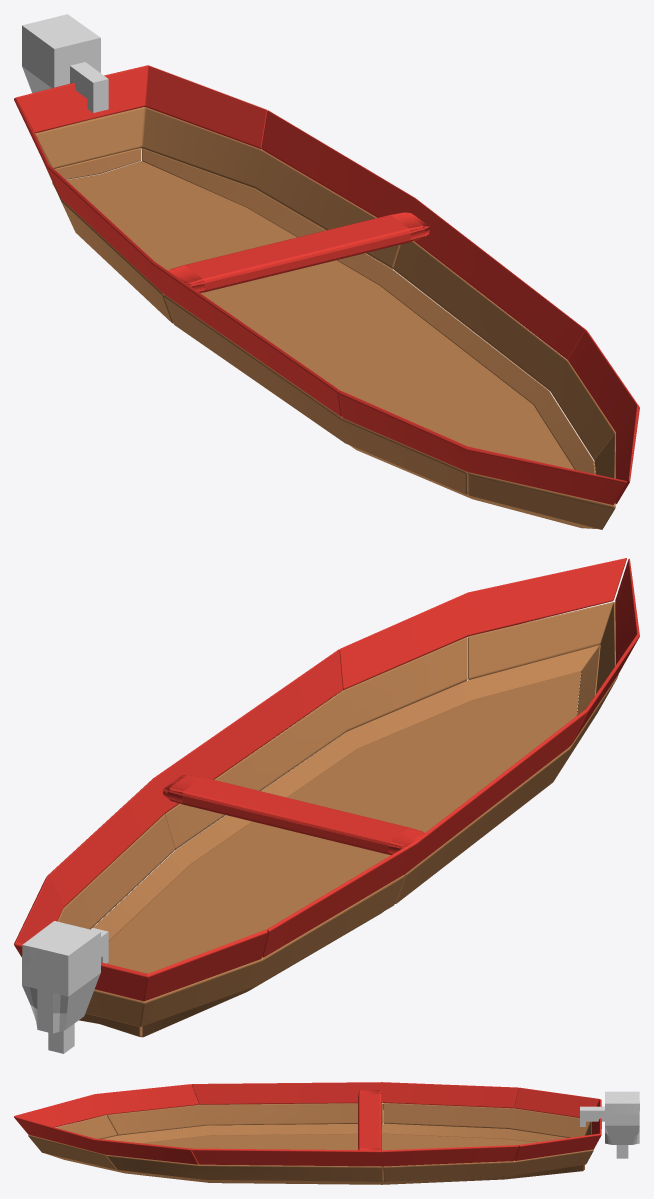
Rendered from boat2.gltf.
3 views of the same model, one above another, from view 1: azimuth 30°, elevation 25°; view 2: azimuth 150°, elevation 25°; view 3: azimuth 270°, elevation 25° (orthographic). The views are drawn at different scales.
Visible parts, largest first — view 1: boat.001, boat, boat.003, boat.002, Plane.002, Cube, Plane.004; view 2: boat, boat.001, boat.003, boat.002, Plane.002, Cube, Plane.004; view 3: boat, boat.003, boat.002, boat.001, Cube, Plane.002, Plane.004.
Boxes of the visible parts, x1,y1,x2,y2 form: boat.001: [66, 161, 574, 490]; boat: [14, 65, 639, 504]; boat.003: [35, 107, 615, 529]; boat.002: [52, 148, 596, 528]; Plane.002: [168, 212, 429, 292]; Cube: [22, 14, 108, 112]; Plane.004: [169, 213, 428, 292]; boat: [14, 558, 639, 1001]; boat.001: [107, 671, 580, 1037]; boat.003: [57, 602, 618, 1026]; boat.002: [79, 645, 600, 1037]; Plane.002: [163, 774, 424, 854]; Cube: [22, 921, 108, 1053]; Plane.004: [164, 775, 422, 854]; boat: [14, 1082, 601, 1166]; boat.003: [28, 1103, 593, 1181]; boat.002: [47, 1123, 584, 1184]; boat.001: [143, 1133, 536, 1179]; Cube: [580, 1091, 639, 1158]; Plane.002: [358, 1090, 381, 1150]; Plane.004: [358, 1090, 381, 1149].
Bounding box in the file's own units: 1.53 × 0.6406 × 5.86.
